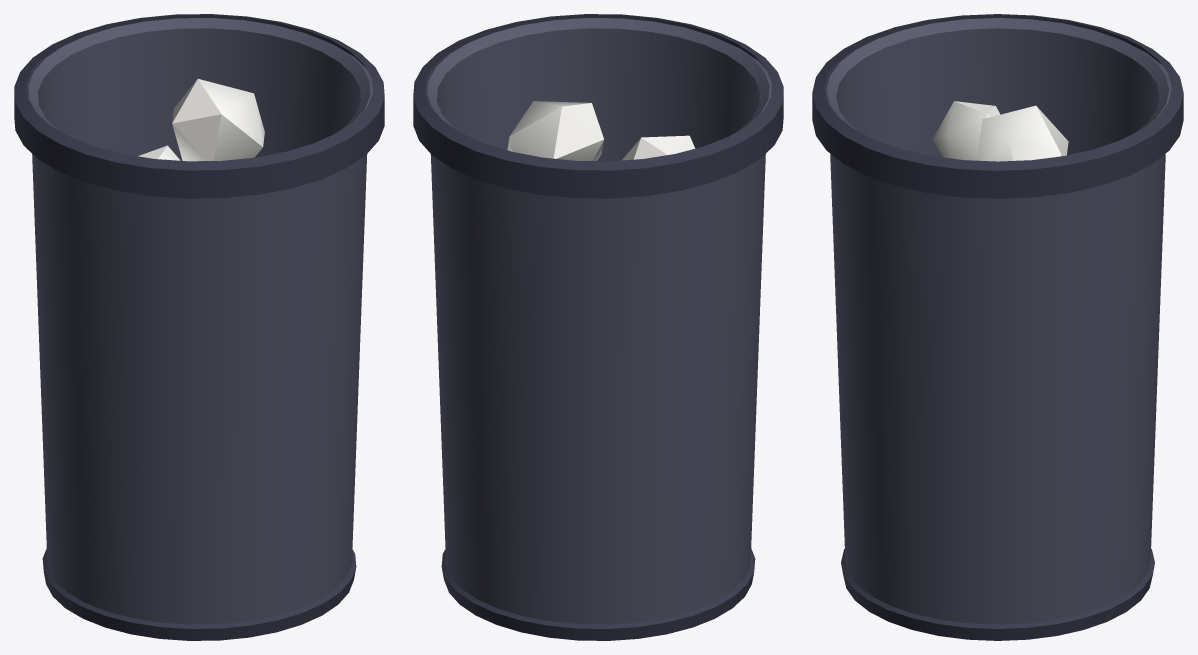
Rendered from trash_bin.glb.
The picture shows the model from 3 angles, left to right: view 1: azimuth 30°, elevation 25°; view 2: azimuth 150°, elevation 25°; view 3: azimuth 270°, elevation 25°; orthographic projection.
Visible parts, largest first — view 1: bin_body, charcoal, paper; view 2: bin_body, charcoal, paper; view 3: bin_body, charcoal, paper.
Boxes of the visible parts, x1,y1,x2,y2 form: bin_body: (26,18,372,624); charcoal: (14,14,384,640); paper: (138,79,264,161); bin_body: (425,18,771,624); charcoal: (413,14,783,640); paper: (507,101,695,160); bin_body: (824,18,1171,624); charcoal: (812,14,1183,640); paper: (933,101,1068,161).
Size of the model in its own units: 0.312 by 0.452 by 0.312.
